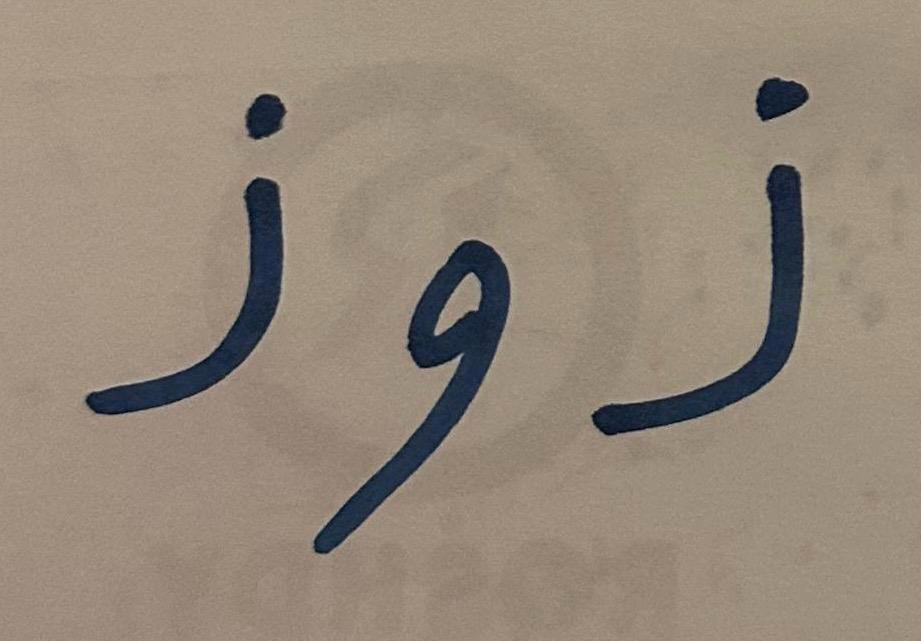ain: (555, 38, 888, 482), (20, 25, 299, 454)
yeh: (303, 76, 548, 598)
